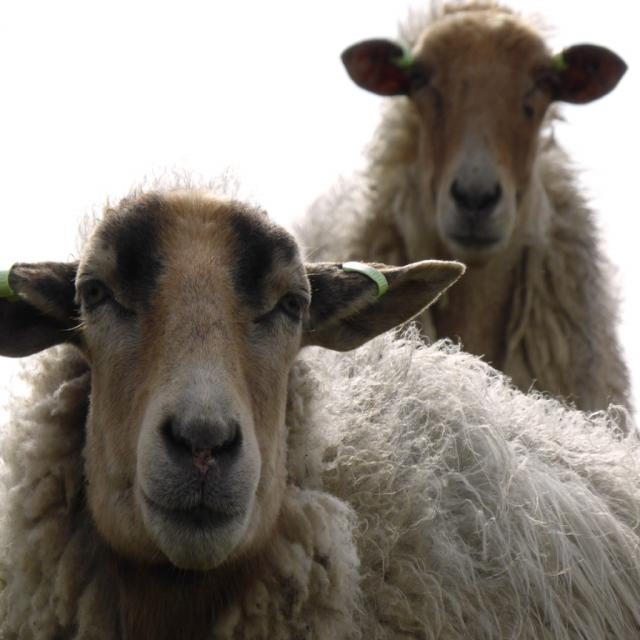Sheep: (0, 165, 640, 640), (292, 0, 635, 438)
